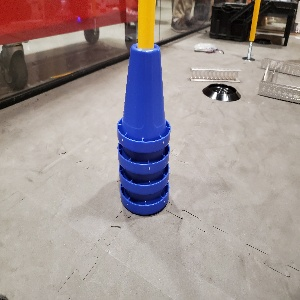Blue_4: (115, 44, 170, 217)
